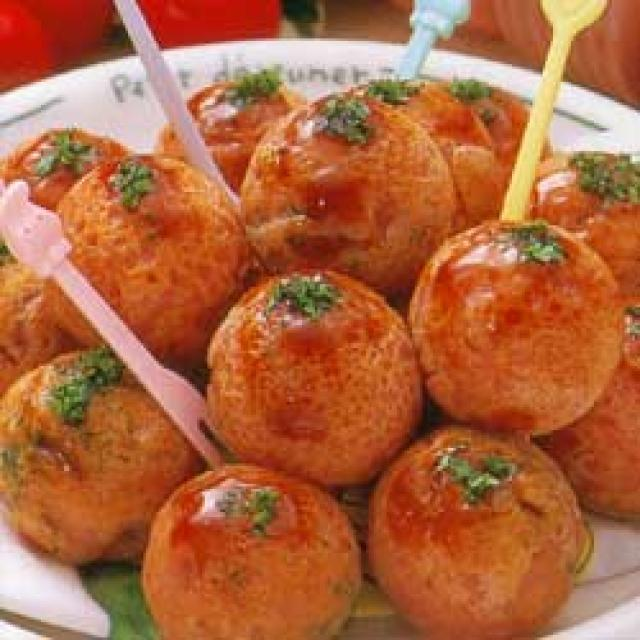炸货点心: (0, 66, 640, 640)
